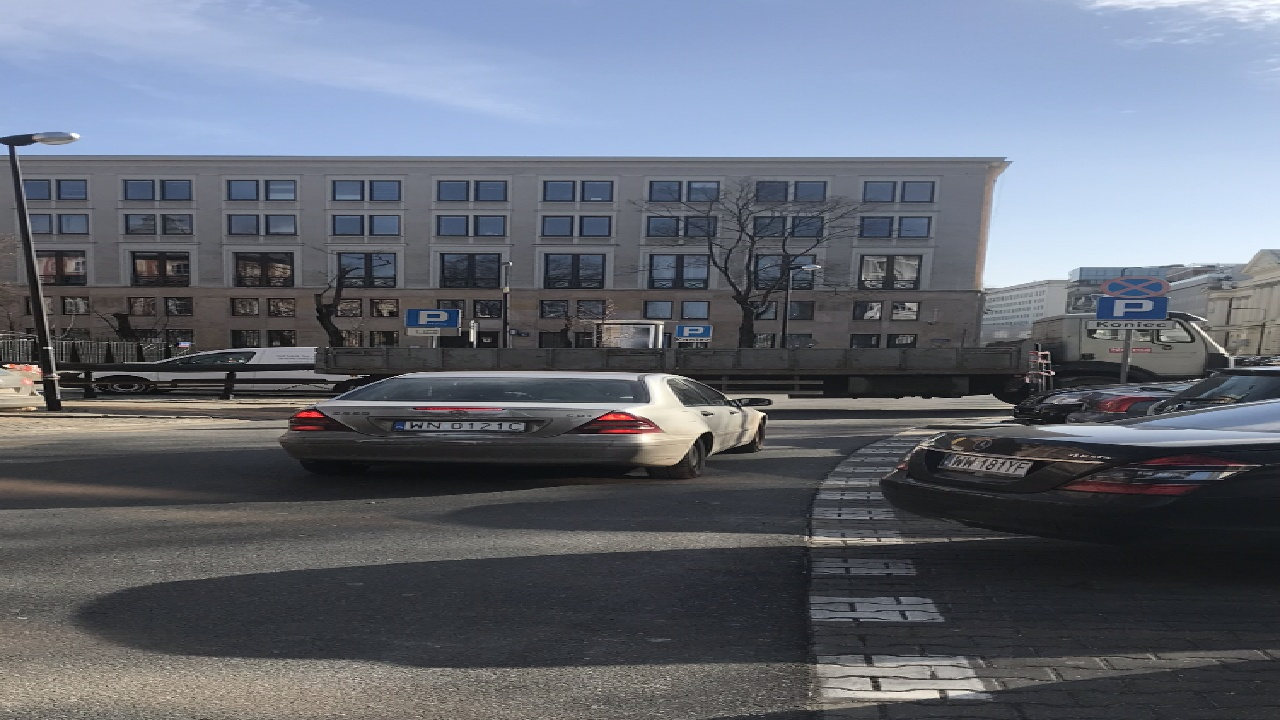B35: (1101, 275, 1170, 294)
D18: (1100, 294, 1171, 320), (406, 305, 468, 331), (679, 323, 711, 340)
